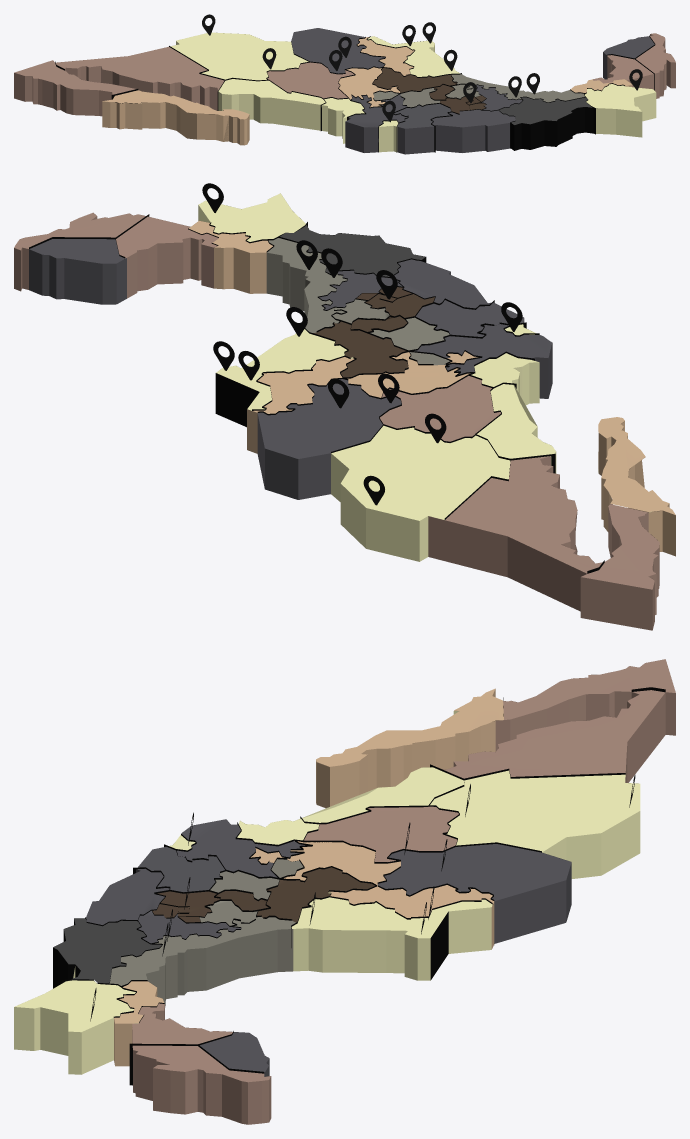
The model's file is Mapa3D.glb.
3 views of the same model, one above another, from view 1: azimuth 30°, elevation 25°; view 2: azimuth 150°, elevation 25°; view 3: azimuth 270°, elevation 25° (orthographic). The views are drawn at different scales.
Parts seen in each view (by area): view 1: Plane; view 2: Plane; view 3: Plane.
Part boxes in pixels (bbox=[...]): Plane: bbox=[14, 28, 675, 154]; Plane: bbox=[14, 193, 675, 630]; Plane: bbox=[14, 659, 675, 1124].
Size of the model in its own units: 12.16 by 1.06 by 8.04.
